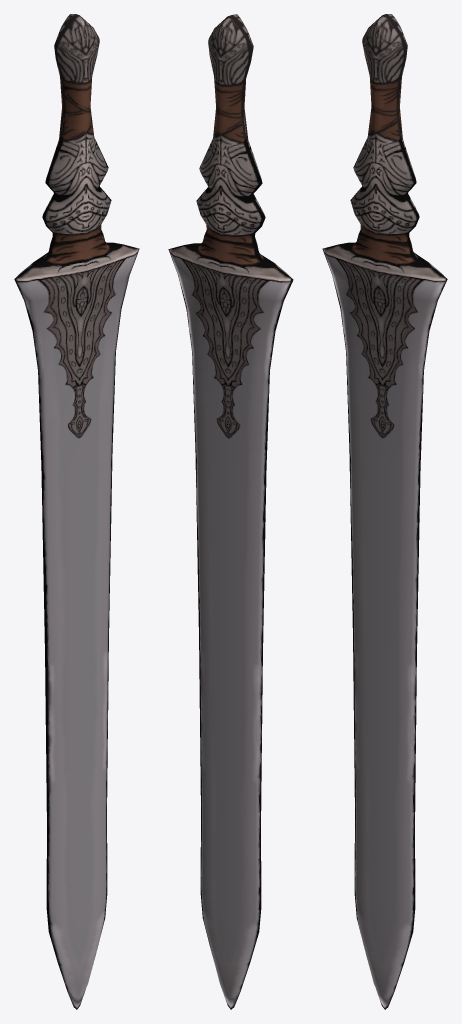
The model's file is sword.fbx.
The picture shows the model from 3 angles, left to right: view 1: azimuth 30°, elevation 25°; view 2: azimuth 150°, elevation 25°; view 3: azimuth 330°, elevation 25°; orthographic projection.
Visible parts, largest first — view 1: KILIÇ; view 2: KILIÇ; view 3: KILIÇ.
Part boxes in pixels (left/top/right/bottom): KILIÇ: left=14, top=14, right=139, bottom=1009; KILIÇ: left=168, top=14, right=293, bottom=1009; KILIÇ: left=322, top=14, right=447, bottom=1009.
Size of the model in its own units: 16.55 by 126 by 4.44.
1 material, 1 textured.
